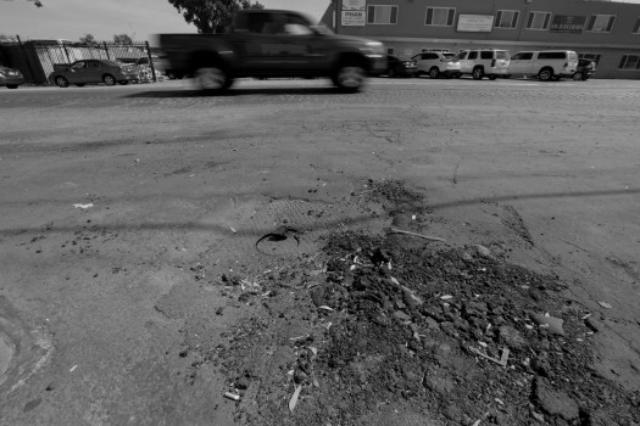Pothole: (211, 169, 632, 426)
